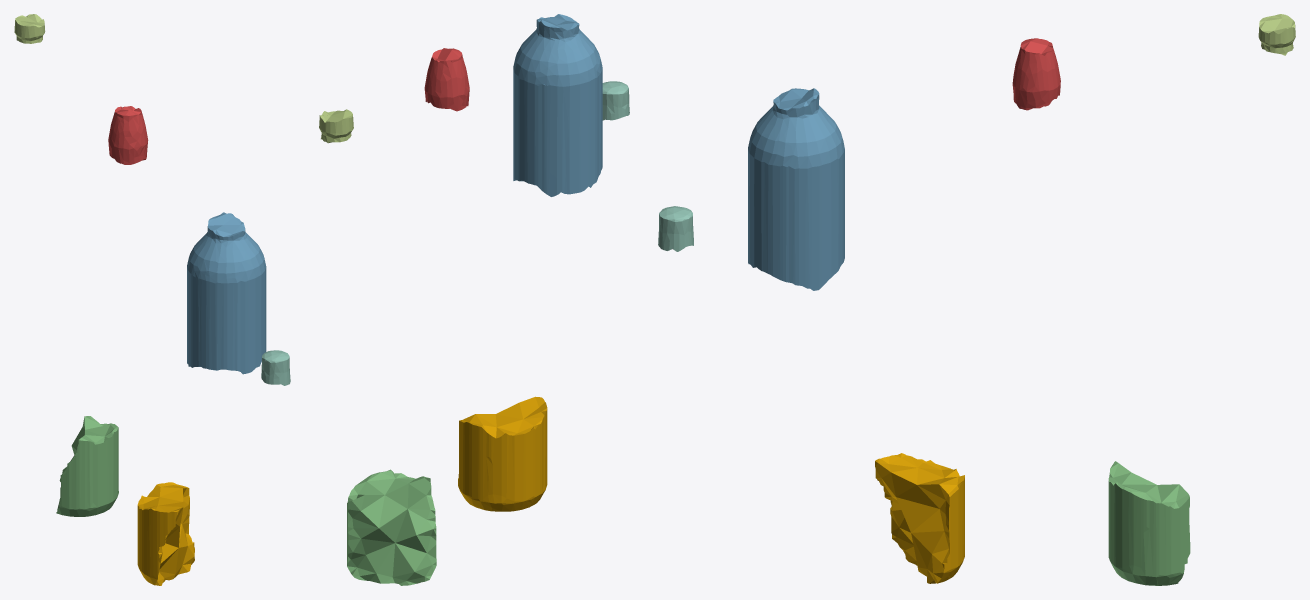
Rendered from fractured_54_6pcs_transformed.glb.
3 renders of one model, left to right at view 1: azimuth 30°, elevation 25°; view 2: azimuth 150°, elevation 25°; view 3: azimuth 270°, elevation 25°, orthographic. The views are drawn at different scales.
Parts seen in each view (by area): view 1: piece_2.obj, piece_0.obj, piece_3.obj, piece_1.obj, piece_4.obj, piece_5.obj; view 2: piece_2.obj, piece_3.obj, piece_0.obj, piece_1.obj, piece_4.obj, piece_5.obj; view 3: piece_2.obj, piece_0.obj, piece_3.obj, piece_1.obj, piece_4.obj, piece_5.obj.
Boxes of the visible parts, x1,y1,x2,y2 form: piece_2.obj: (187, 212, 266, 374); piece_0.obj: (137, 482, 194, 585); piece_3.obj: (56, 416, 118, 516); piece_1.obj: (108, 106, 148, 164); piece_4.obj: (261, 350, 290, 385); piece_5.obj: (14, 14, 45, 43); piece_2.obj: (513, 14, 602, 196); piece_3.obj: (347, 469, 436, 585); piece_0.obj: (458, 396, 547, 511); piece_1.obj: (424, 48, 469, 111); piece_4.obj: (602, 81, 629, 120); piece_5.obj: (319, 109, 353, 143); piece_2.obj: (748, 88, 844, 290); piece_0.obj: (875, 453, 964, 583); piece_3.obj: (1108, 461, 1190, 585); piece_1.obj: (1012, 38, 1060, 110); piece_4.obj: (658, 206, 693, 251); piece_5.obj: (1258, 14, 1295, 55).
Bounding box in the file's own units: 0.242 × 1.52 × 1.59.
